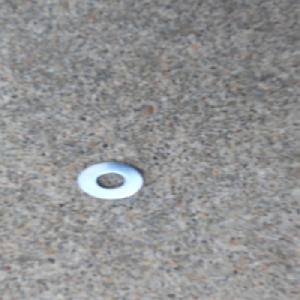Washer: (74, 158, 146, 200)
